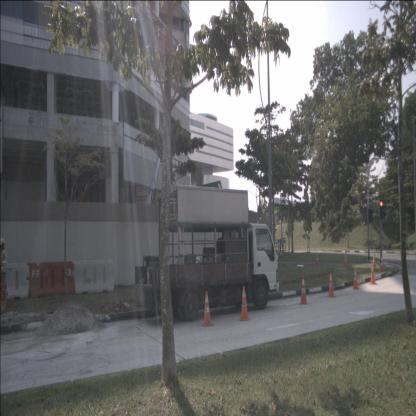barrier: (28, 260, 75, 298), (73, 258, 115, 293), (1, 261, 30, 299)
cone: (200, 290, 214, 326), (239, 285, 250, 321), (326, 270, 336, 298), (299, 275, 308, 305), (368, 262, 378, 286), (352, 267, 360, 290), (379, 255, 385, 272), (342, 250, 348, 266), (372, 252, 377, 267), (315, 251, 319, 266)
